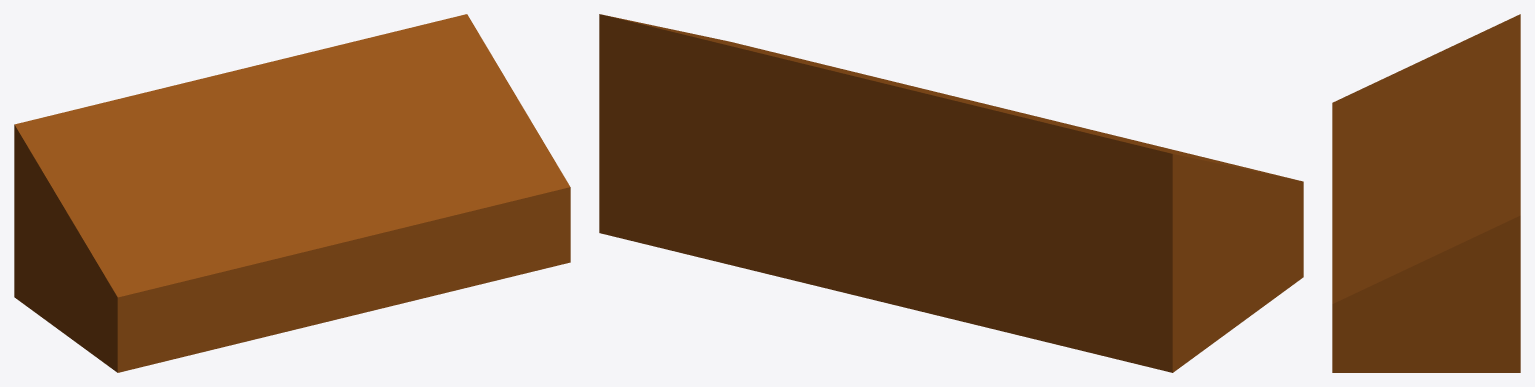
File: suporteCaixas.FBX
The picture shows the model from 3 angles, left to right: view 1: azimuth 30°, elevation 25°; view 2: azimuth 150°, elevation 25°; view 3: azimuth 270°, elevation 25°; orthographic projection. The views are drawn at different scales.
Parts seen in each view (by area): view 1: Box059; view 2: Box059; view 3: Box059.
Part boxes in pixels (x1=…): Box059: x1=14, y1=14, x2=570, y2=372; Box059: x1=599, y1=14, x2=1303, y2=372; Box059: x1=1332, y1=14, x2=1520, y2=372.
Size of the model in its own units: 120 by 43.64 by 47.27.
